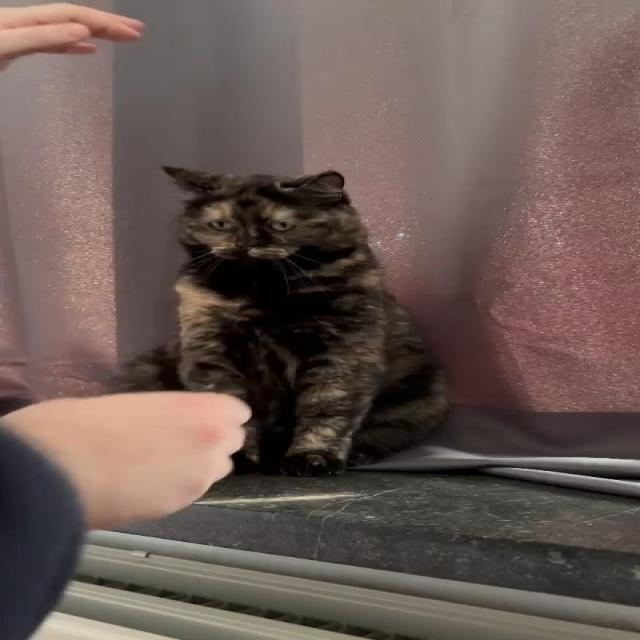authorized: (113, 164, 451, 477)
